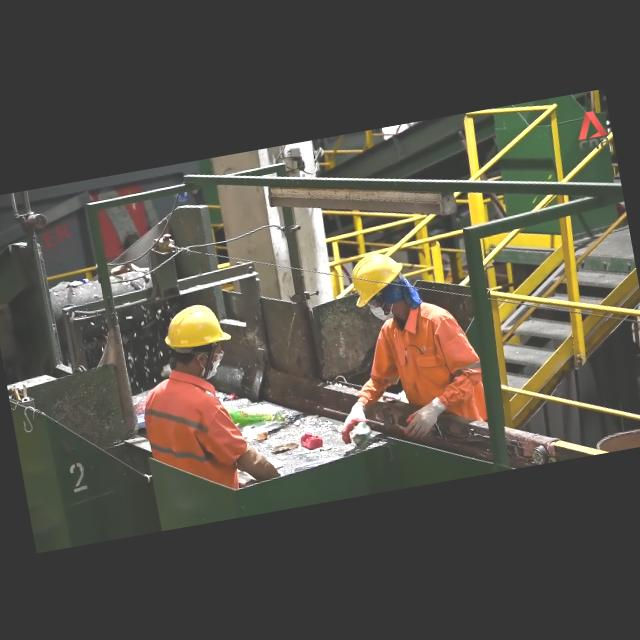trash: (222, 396, 280, 431), (214, 394, 253, 412)
